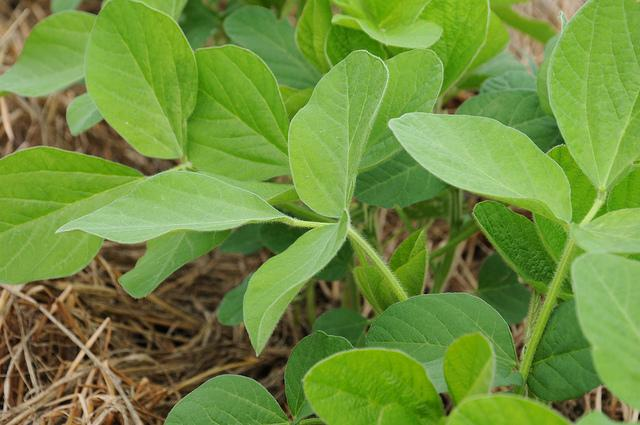Soyabean leaf: (387, 112, 574, 224), (53, 170, 293, 251), (220, 211, 347, 357), (545, 1, 640, 191), (287, 49, 388, 222), (569, 249, 640, 391)
